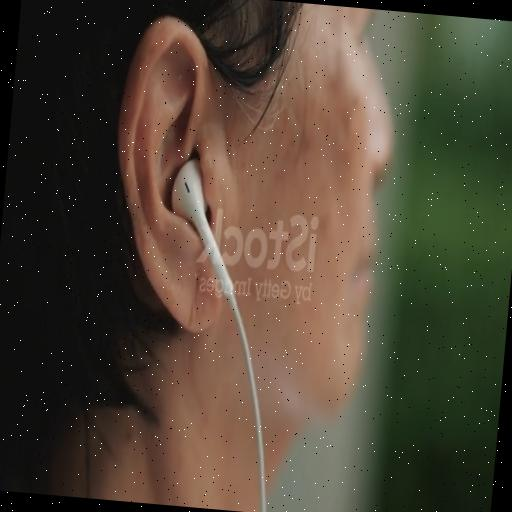earphone: (145, 149, 296, 512)
